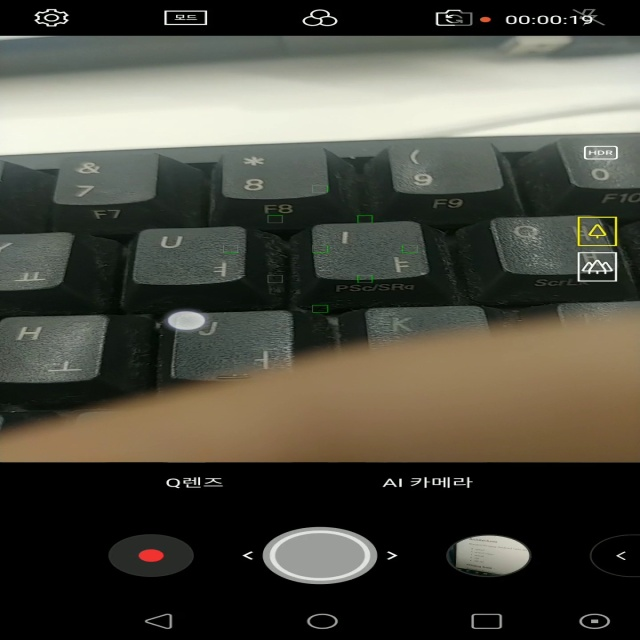Cursor: (164, 310, 208, 332)
